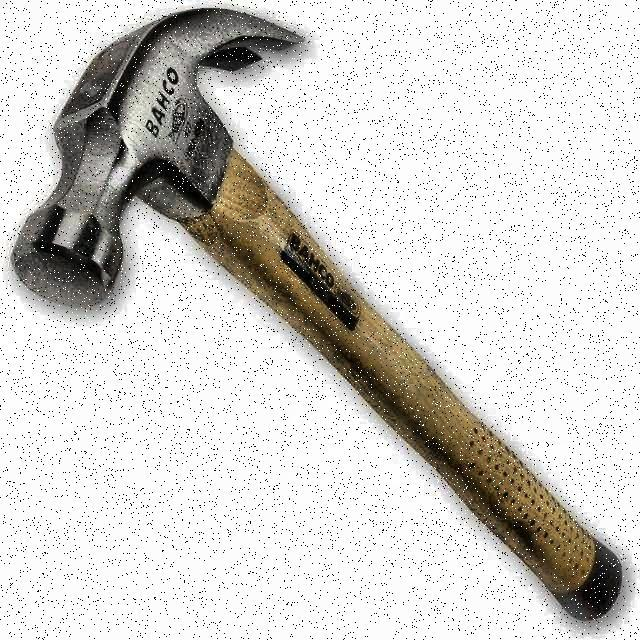hammer: (12, 7, 626, 621)
